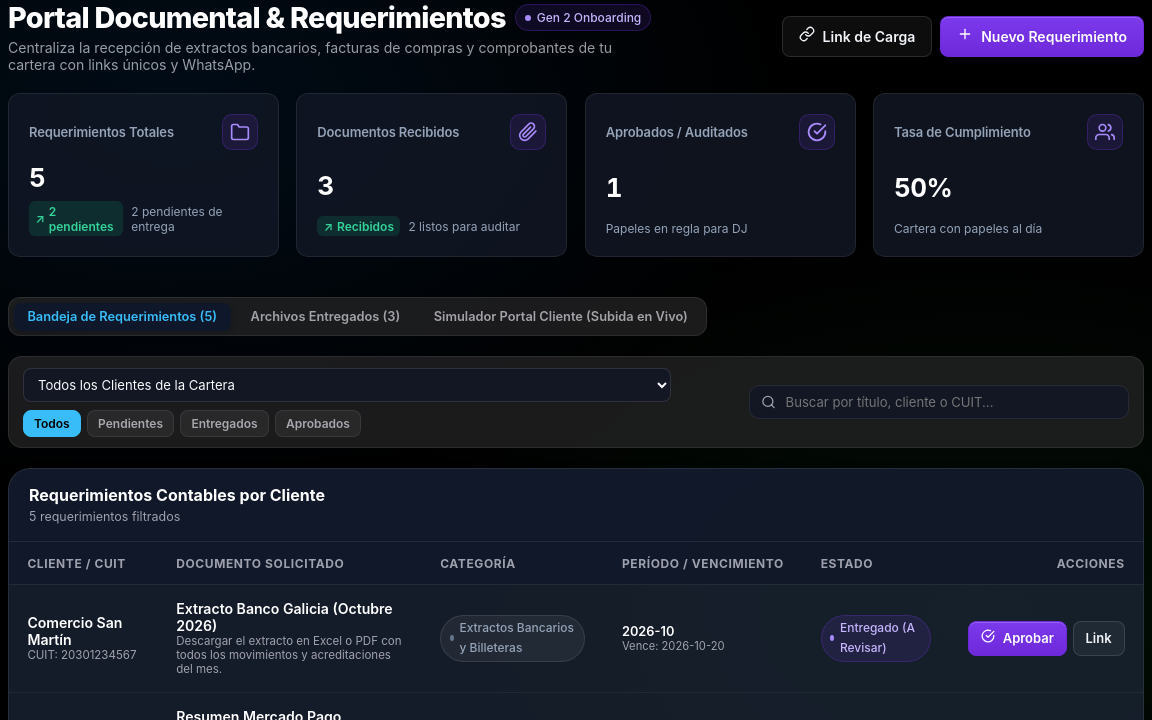
AccountantDocPortal Component › permite cambiar entre pestañas de vista (Requerimientos, Archivos, Simulador)
The width and height of the screenshot is (1152, 720).
Click en "Archivos Entregados"
Click the button "Archivos Entregados (3)". click: (325, 317)
box: [237, 303, 414, 331]
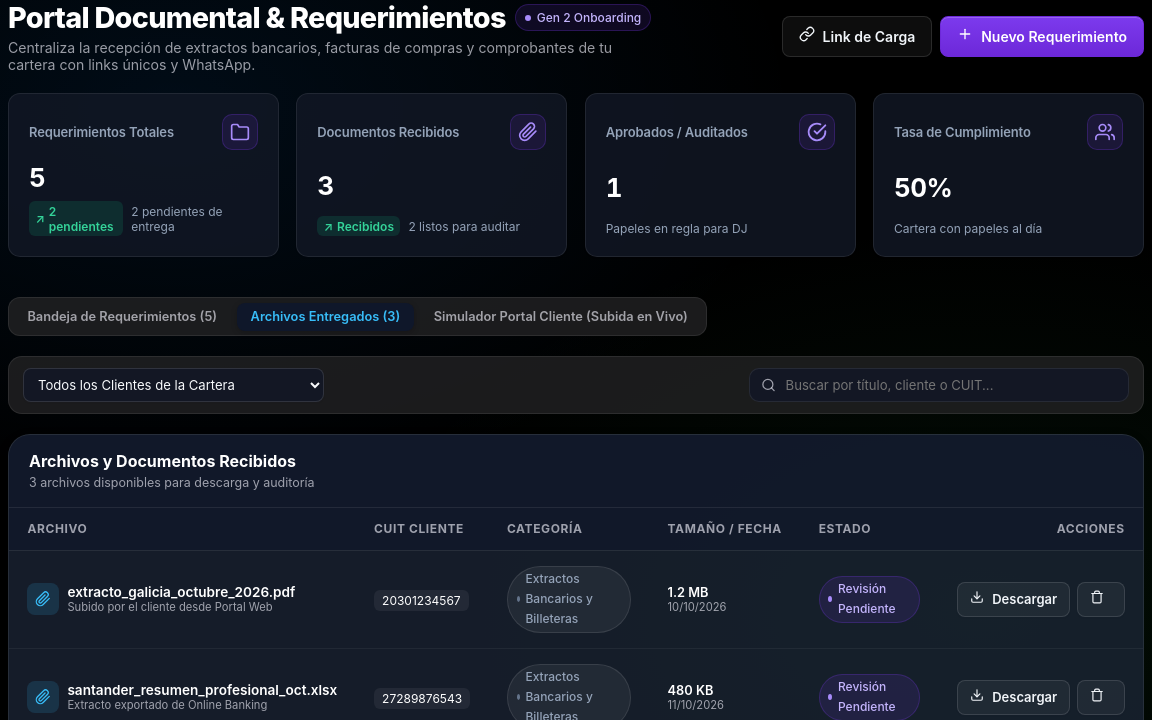
Now the heading "Archivos y Documentos Recibidos" is shown, box [29, 450, 314, 470]
Now the text "extracto_galicia_octubre_2026.pdf" is shown, box [67, 584, 295, 600]
Click en "Simulador Portal Cliente"
Click the button "Simulador Portal Cliente (Subida en Vivo)". click: (561, 317)
box: [420, 303, 702, 331]
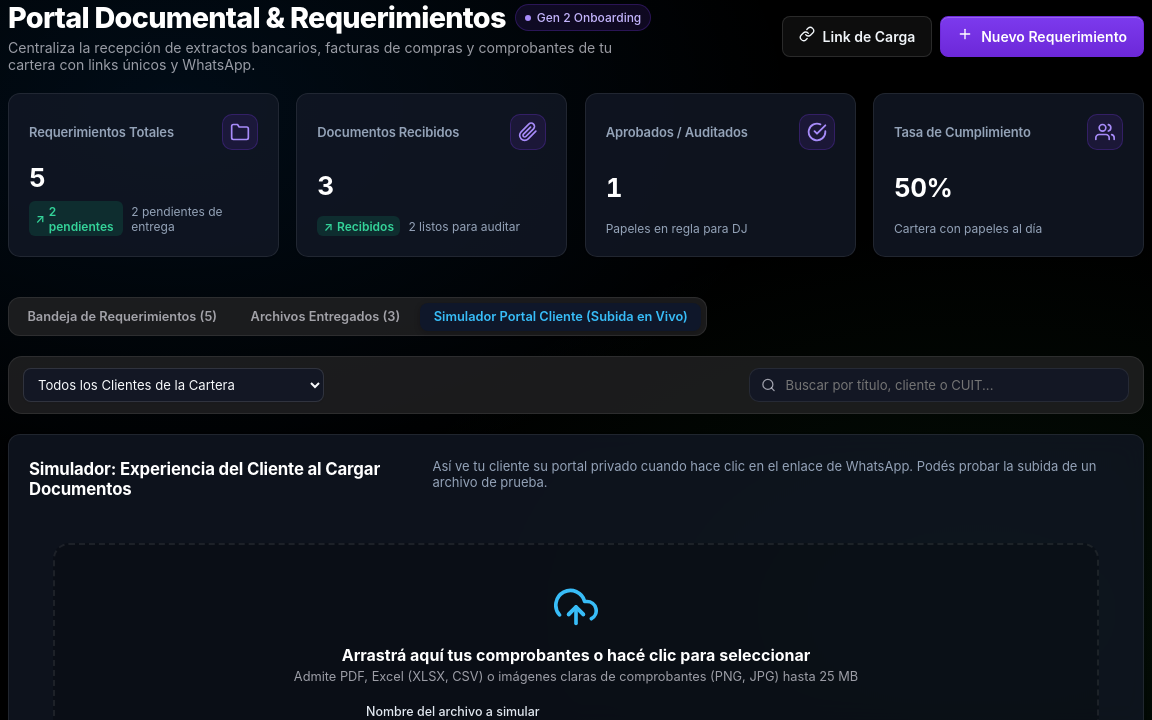
Now the heading "Simulador: Experiencia del Cliente al Cargar Documentos" is shown, box [29, 459, 432, 499]
